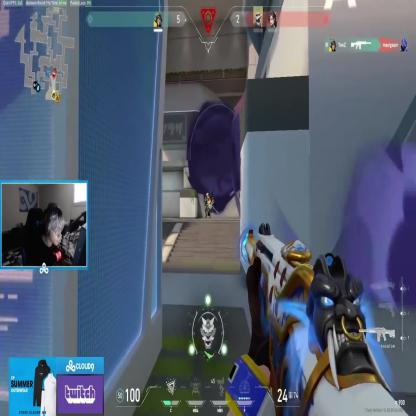enemy: (205, 192, 211, 219)
enemy_head: (206, 192, 209, 197)
